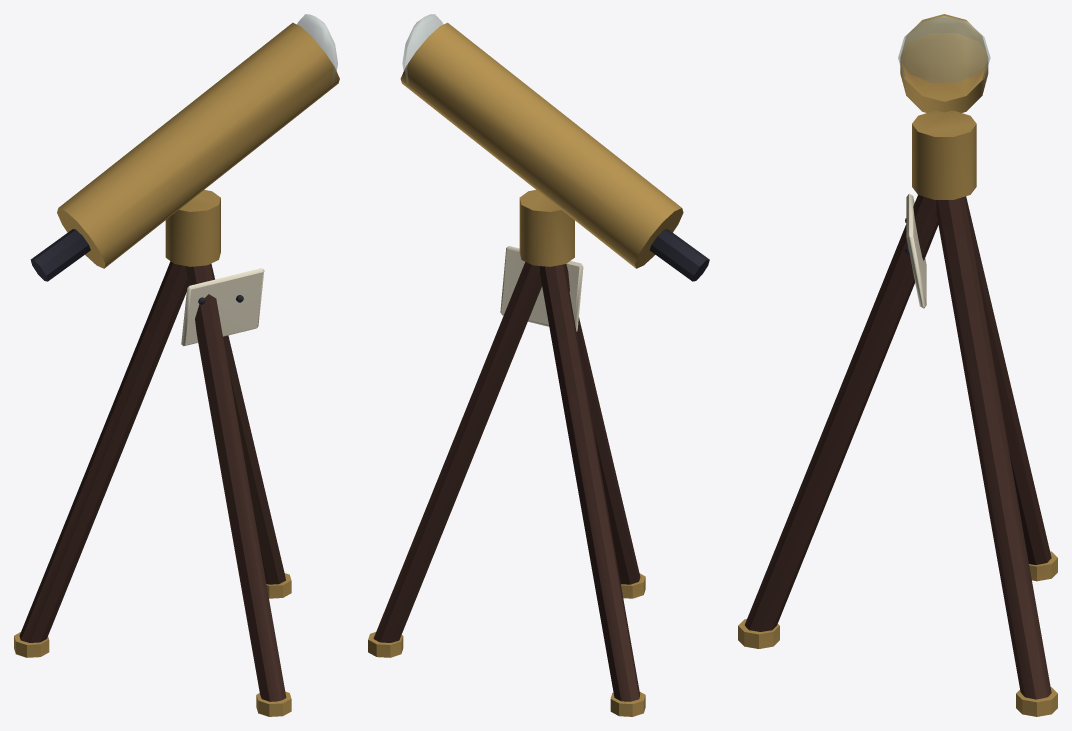
Rendered from telescope_brass.glb.
3 renders of one model, left to right at view 1: azimuth 30°, elevation 25°; view 2: azimuth 150°, elevation 25°; view 3: azimuth 270°, elevation 25°, orthographic. The views are drawn at different scales.
Visible parts, largest first — view 1: telescope_brass; view 2: telescope_brass; view 3: telescope_brass.
Part boxes in pixels (box(x1,y1,x2,y2)): telescope_brass: box(14, 14, 339, 716); telescope_brass: box(368, 14, 709, 716); telescope_brass: box(738, 14, 1057, 716).
Size of the model in its own units: 0.8487 by 1.65 by 0.69.
